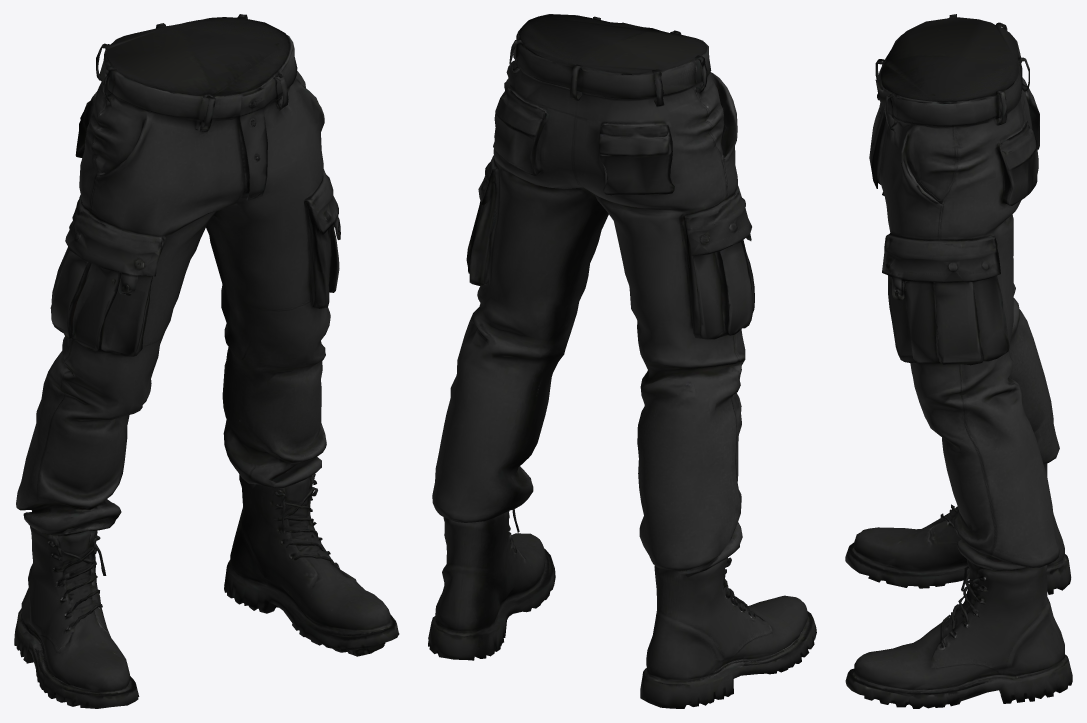
Rendered from pants-leather.glb.
3 views of the same model, side by side, from view 1: azimuth 30°, elevation 25°; view 2: azimuth 150°, elevation 25°; view 3: azimuth 270°, elevation 25° (orthographic). The views are drawn at different scales.
Visible parts, largest first — view 1: Object_4; view 2: Object_4; view 3: Object_4.
Part boxes in pixels (x1,y1,x2,y2): Object_4: (14, 14, 399, 708); Object_4: (428, 14, 816, 708); Object_4: (845, 14, 1072, 708).
Size of the model in its own units: 0.5772 by 1 by 0.3542.
Materials: 1 (1 with a texture image).
